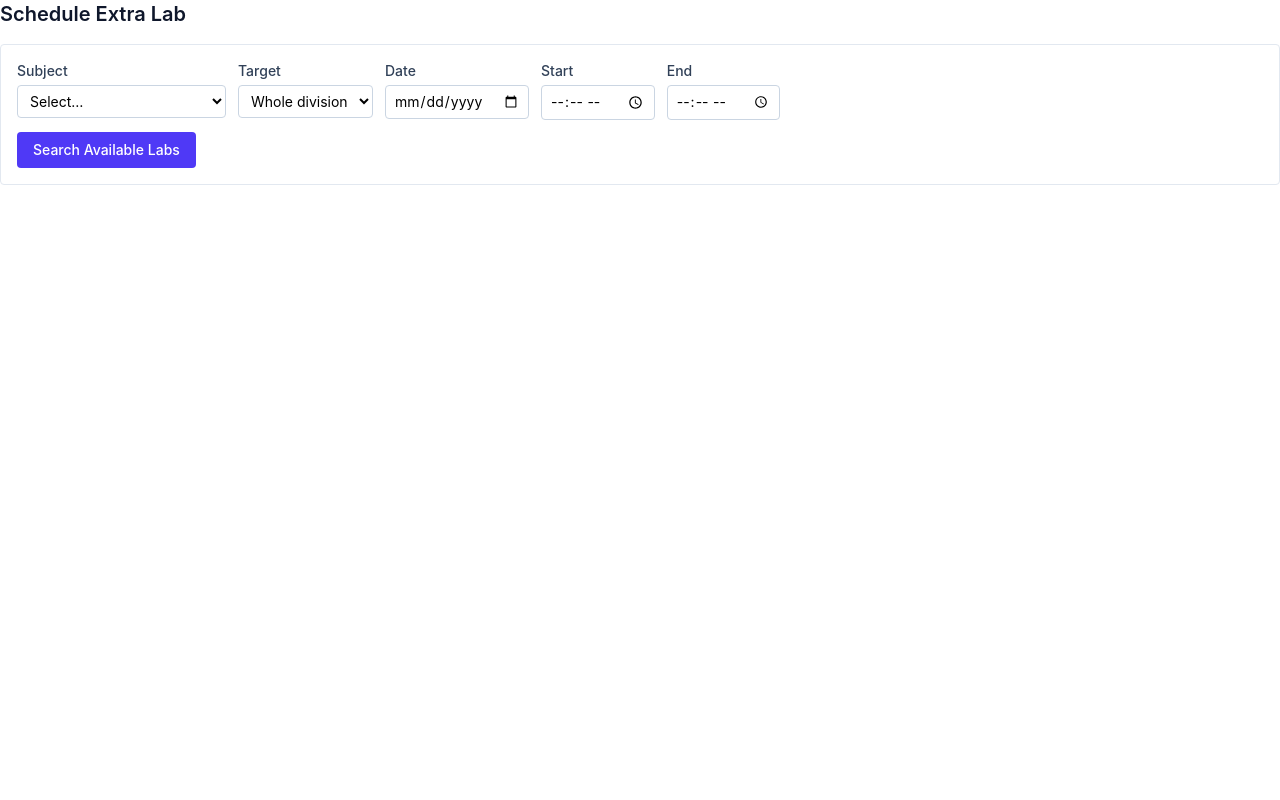
ScheduleExtraLabPage › PART 69 - completes search -> select -> confirm -> book, and shows real booking details on success
Select "BDA — Big Data Analytics" in the dropdown labelled "Subject" at (122, 102), box [17, 85, 226, 118]
Type "2026-08-31" into the date field labelled "Date" at (457, 102), box [385, 85, 529, 119]
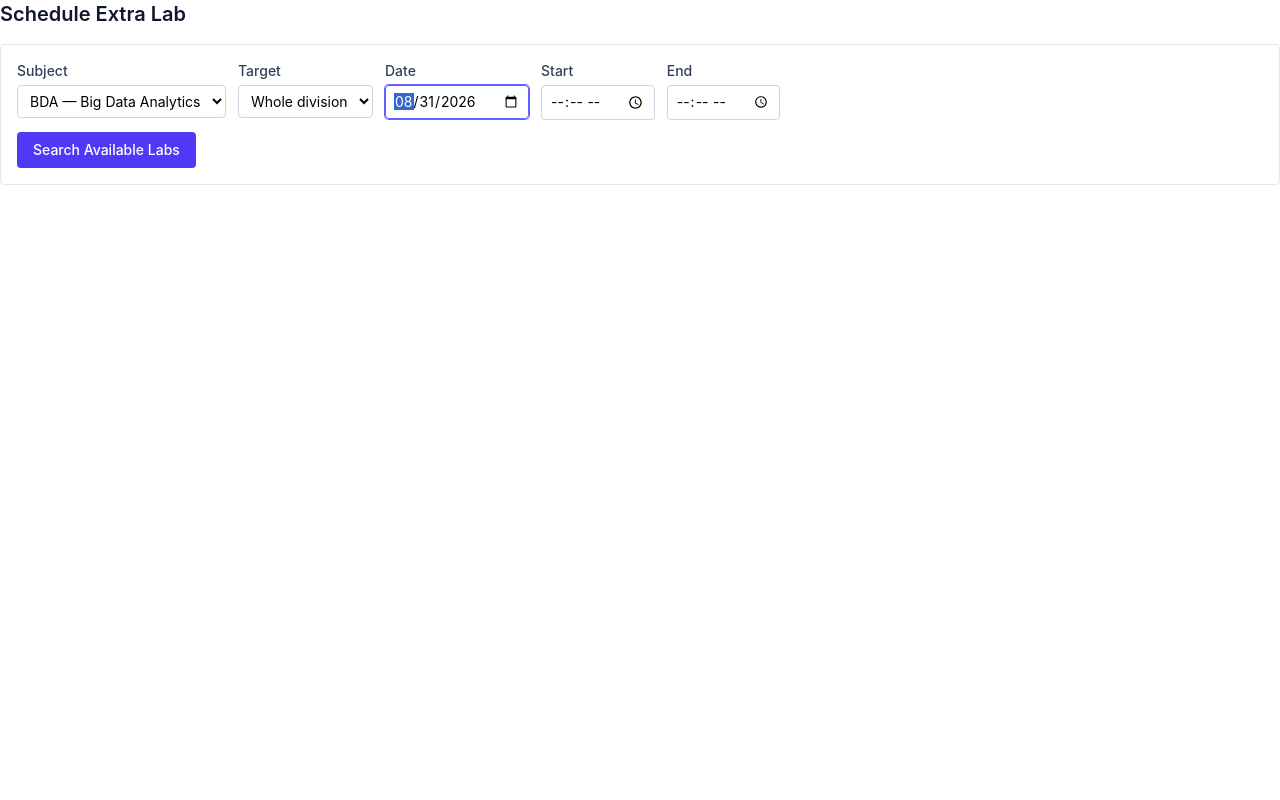
Type "09:00" into the time field labelled "Start" at (598, 102), box [541, 85, 655, 120]
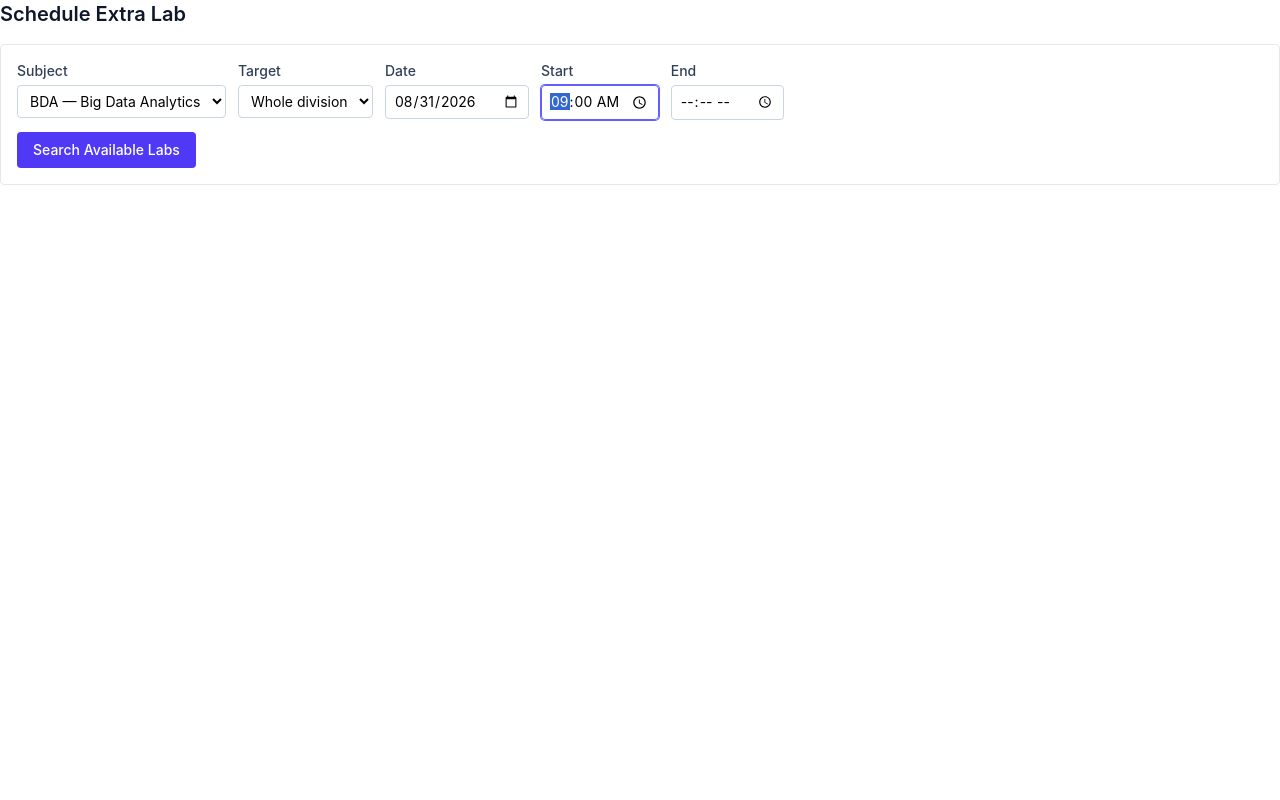
Type "11:00" into the time field labelled "End" at (728, 102), box [671, 85, 784, 120]
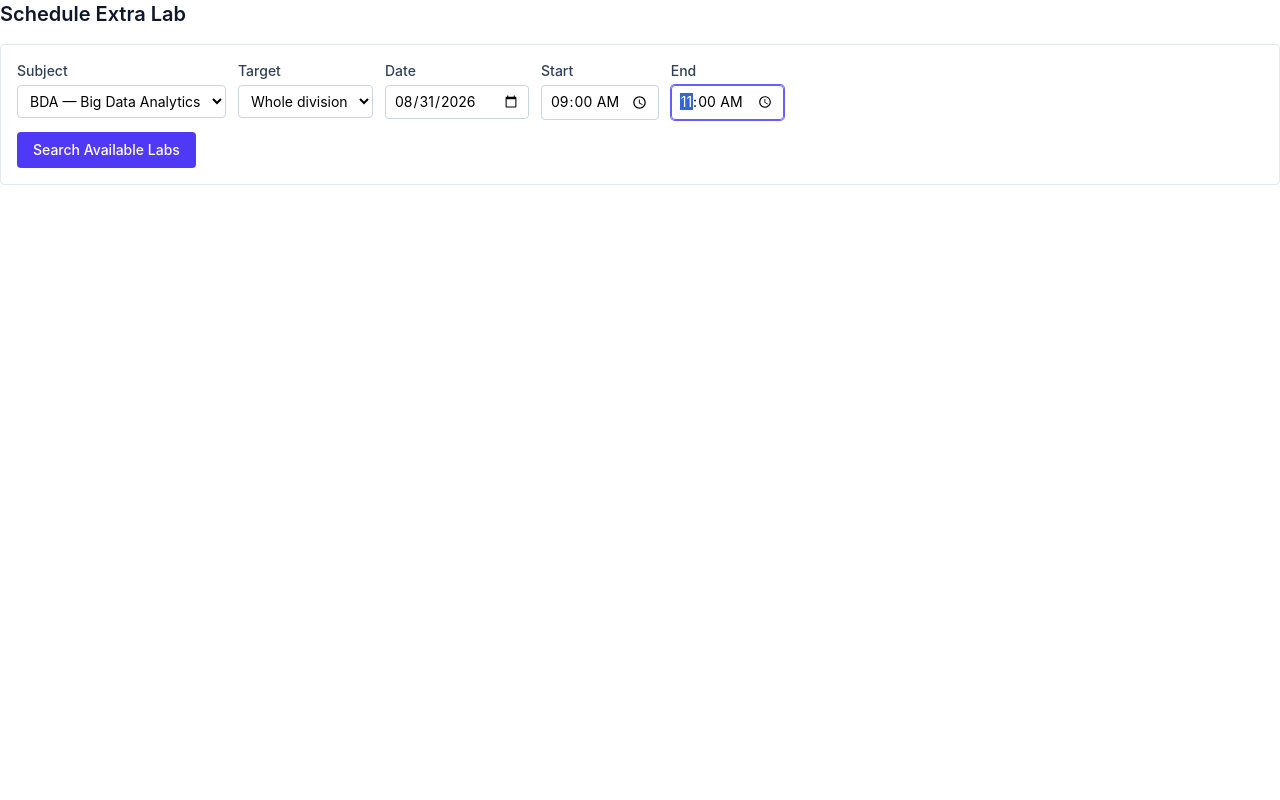
Click the button "Search Available Labs" at (106, 150), box [17, 132, 196, 168]
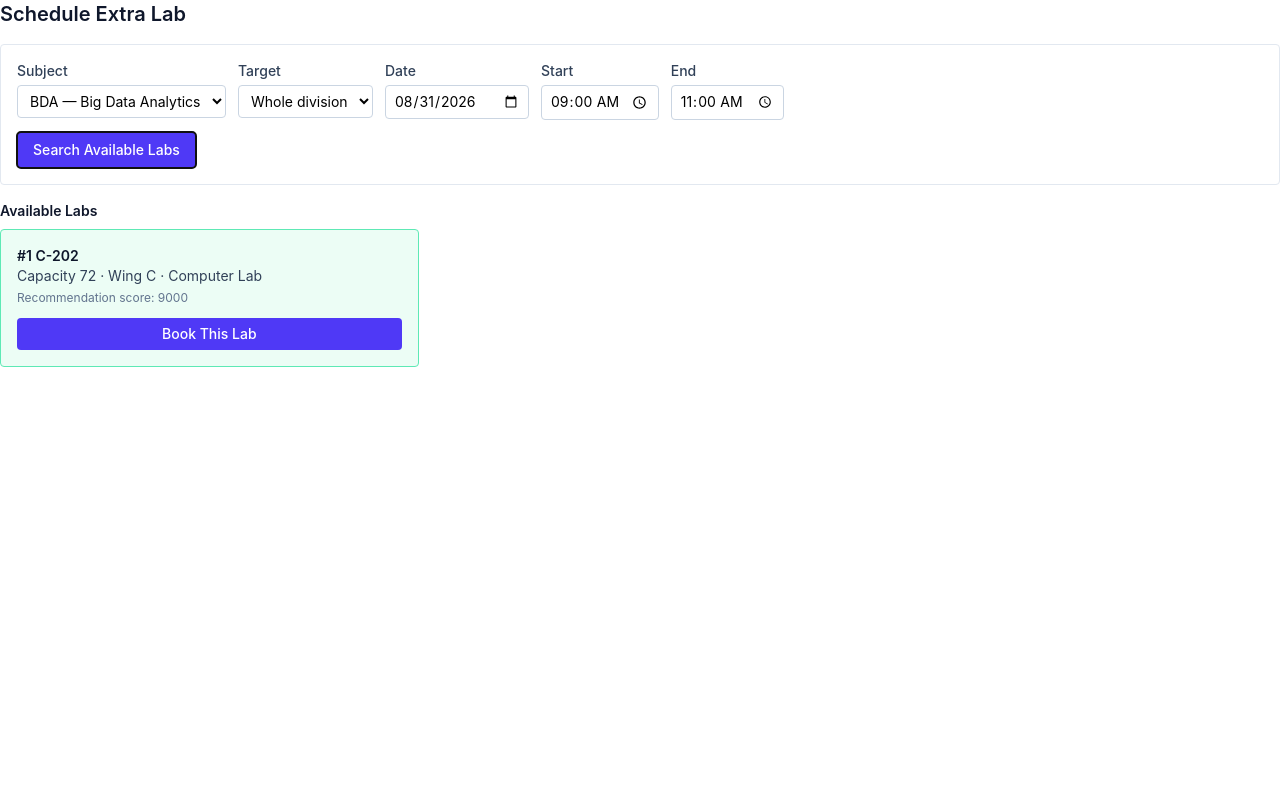
Click the button "Book This Lab" at (209, 334), box [17, 318, 402, 350]
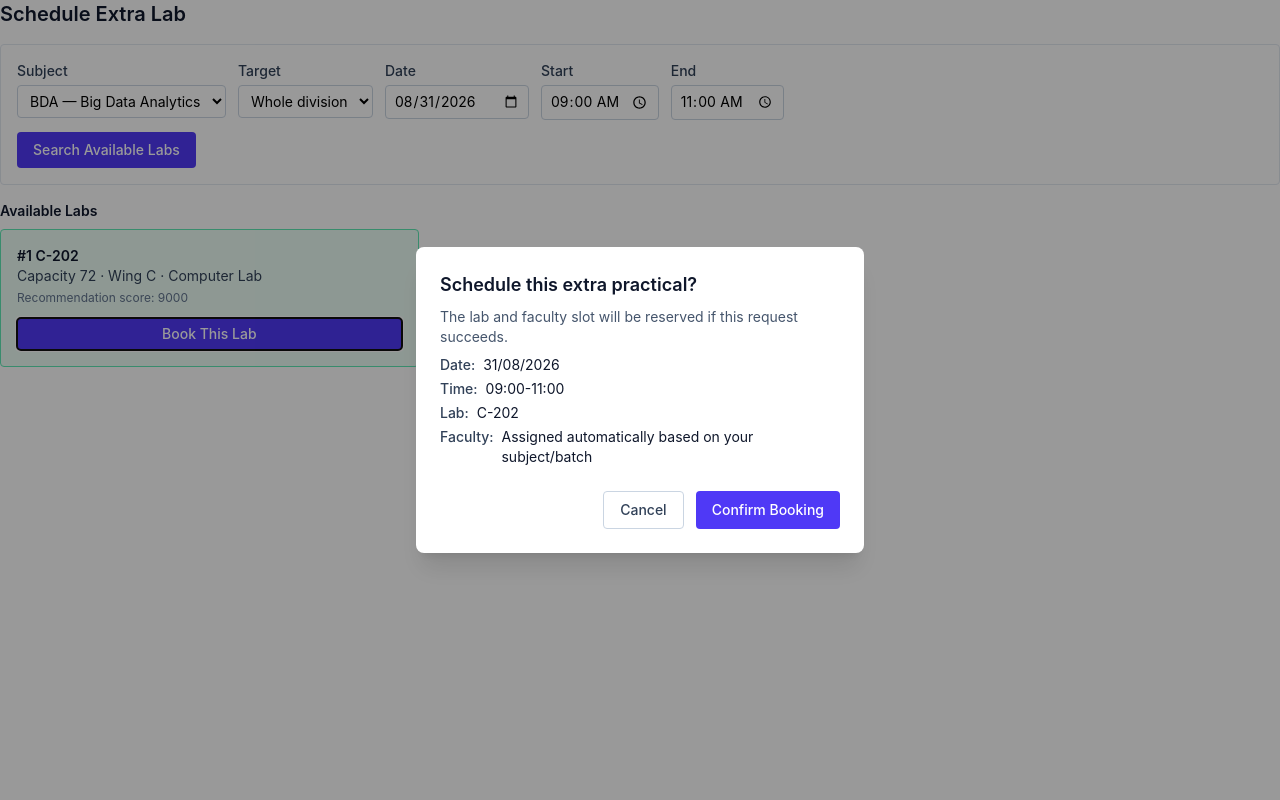
Check: the heading "Schedule this extra practical?" is shown, box [440, 274, 697, 295]
Click the button "Confirm Booking" at (768, 510), box [696, 491, 840, 529]
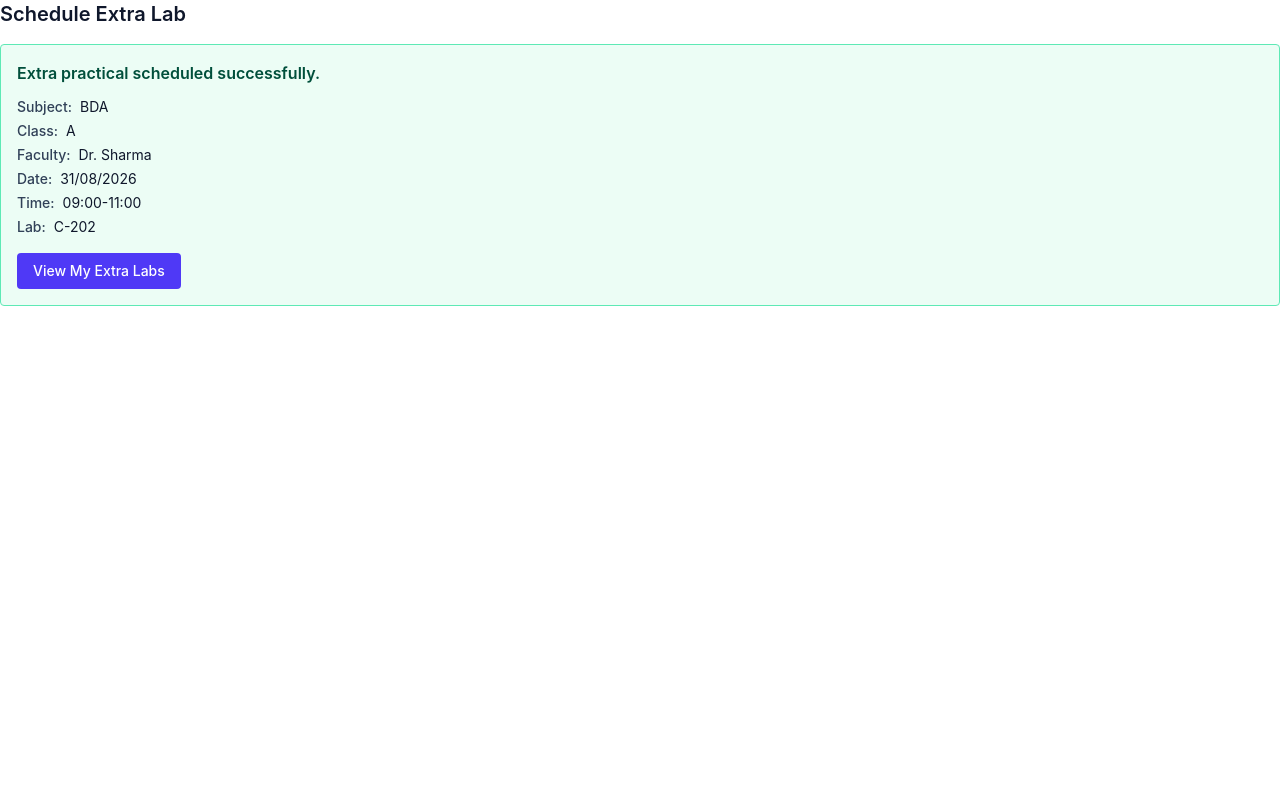
Check: the text "Extra practical scheduled successfully." is shown, box [17, 63, 320, 83]
Check: the text "Dr. Sharma" is shown, box [78, 145, 152, 165]
Check: the button "View My Extra Labs" is shown, box [17, 253, 181, 289]
